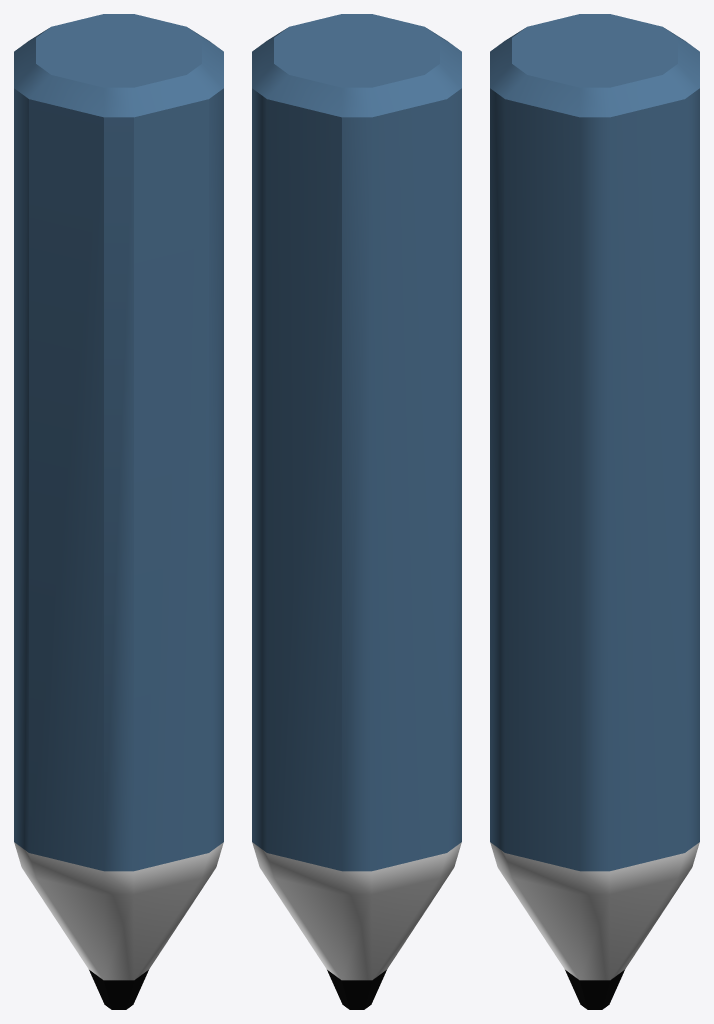
File: pen.fbx
3 views of the same model, side by side, from view 1: azimuth 30°, elevation 25°; view 2: azimuth 150°, elevation 25°; view 3: azimuth 270°, elevation 25° (orthographic).
Parts seen in each view (by area): view 1: pCylinder1; view 2: pCylinder1; view 3: pCylinder1.
Part boxes in pixels (x1,y1,x2,y2): pCylinder1: [14, 14, 223, 1009]; pCylinder1: [252, 14, 461, 1009]; pCylinder1: [490, 14, 699, 1009].
Bounding box in the file's own units: 1.86 × 8.69 × 1.73.
